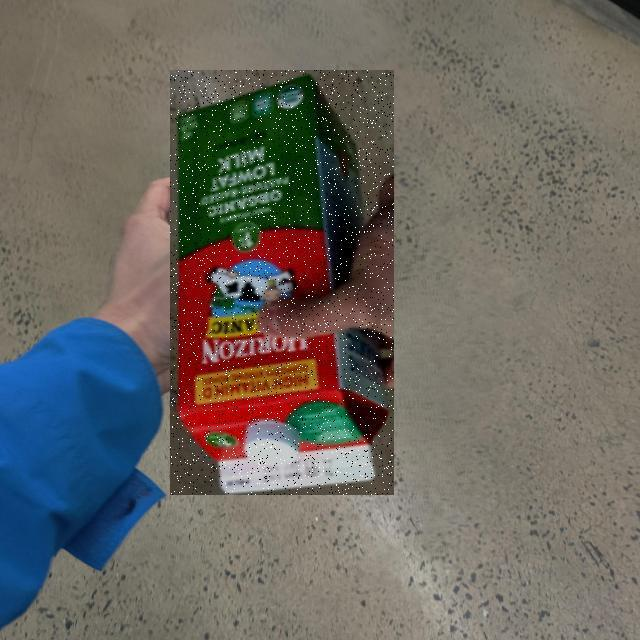milk: (0, 248, 367, 640)
